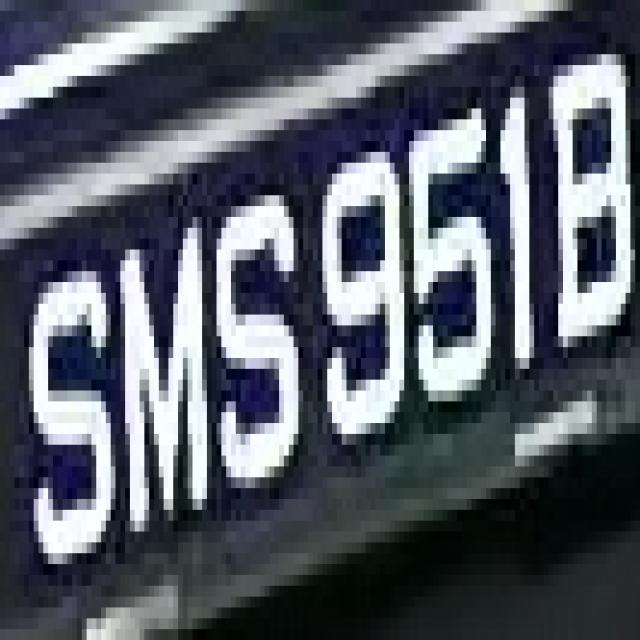1: (496, 54, 548, 391)
5: (409, 87, 500, 423)
9: (317, 152, 413, 434)
B: (548, 32, 640, 368)
M: (110, 185, 217, 542)
S: (212, 163, 308, 499), (34, 260, 116, 586)
